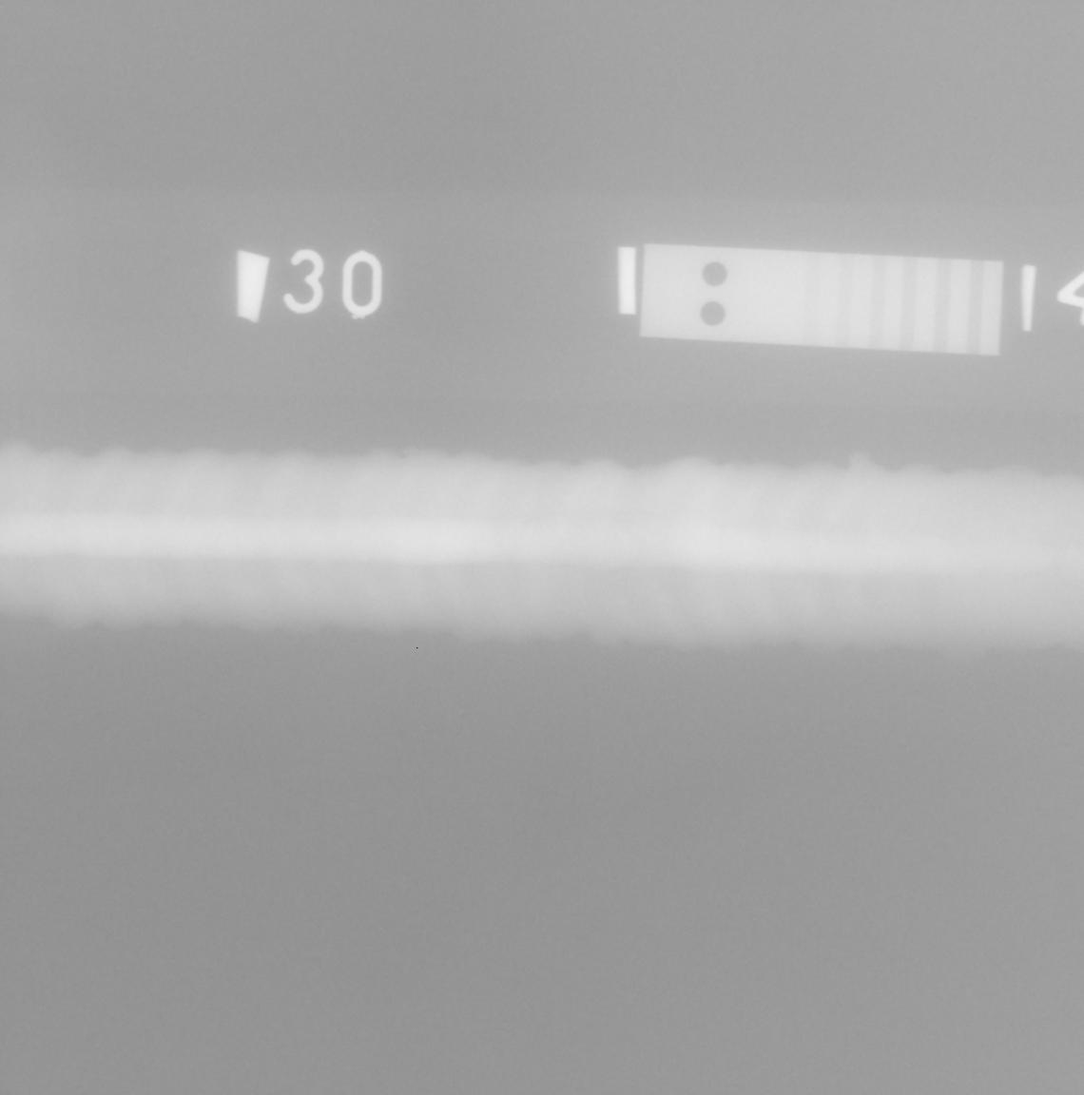Reference Standard 2: (640, 243, 1004, 356)
